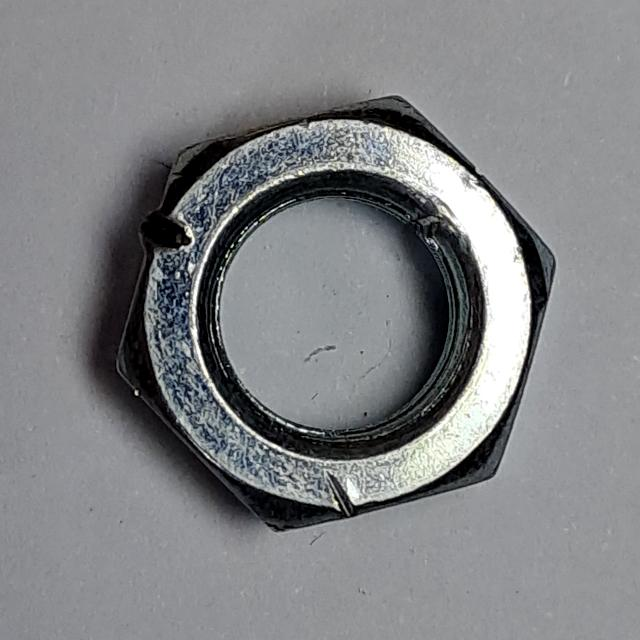Scratches: (102, 85, 569, 545)
